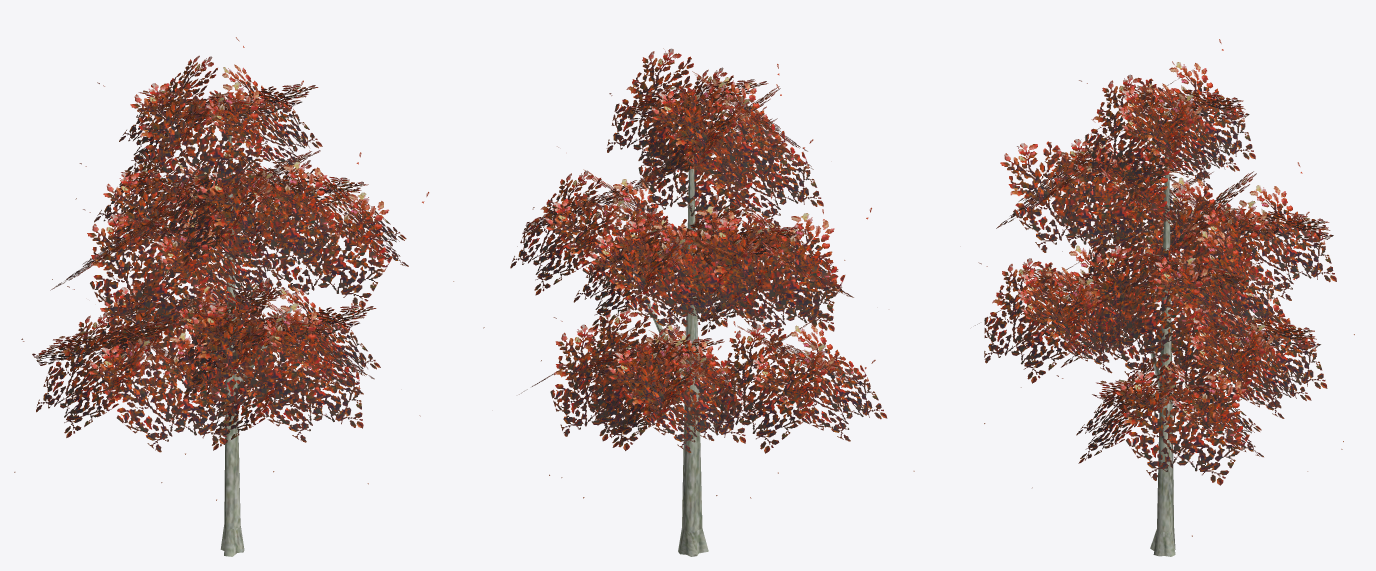
File: euro_beech2.dae
3 views of the same model, side by side, from view 1: azimuth 30°, elevation 25°; view 2: azimuth 150°, elevation 25°; view 3: azimuth 270°, elevation 25° (orthographic). The views are drawn at different scales.
Parts seen in each view (by area): view 1: tree_oak_b1; view 2: tree_oak_b1; view 3: tree_oak_b1.
Boxes of the visible parts, x1,y1,x2,y2 form: tree_oak_b1: (14,37,453,556); tree_oak_b1: (483,48,914,556); tree_oak_b1: (975,39,1354,556).
Bounding box in the file's own units: 228 × 255 × 202.
2 materials, 2 textured.
